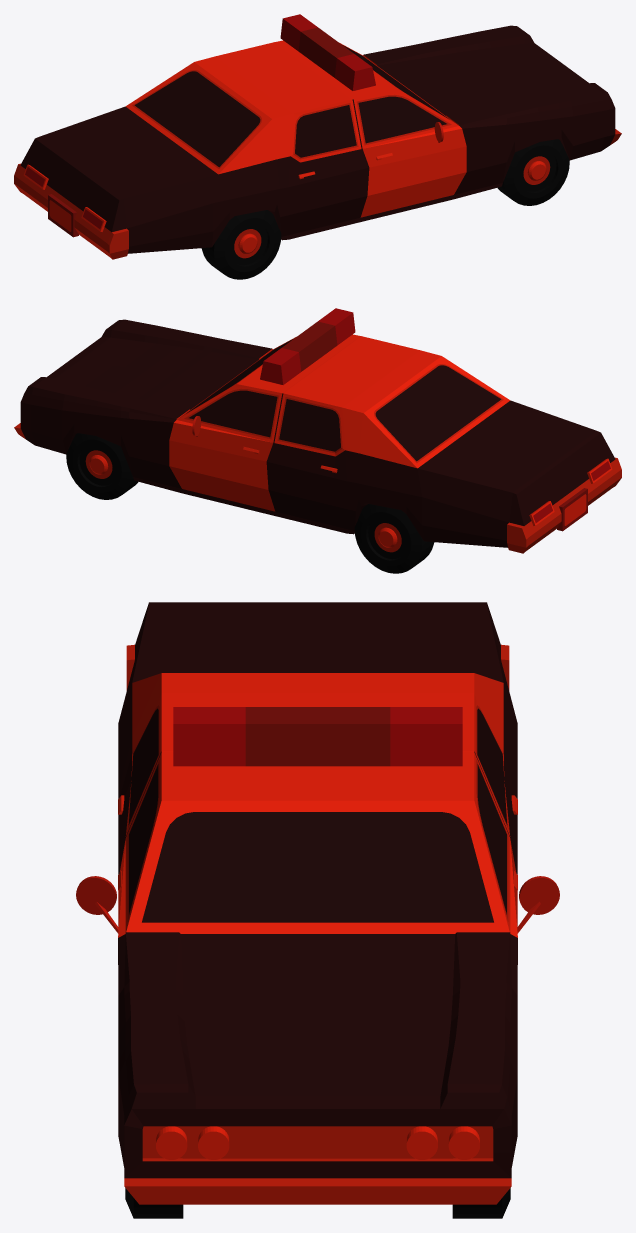
File: cop.fbx
3 renders of one model, top to bottom at view 1: azimuth 30°, elevation 25°; view 2: azimuth 150°, elevation 25°; view 3: azimuth 270°, elevation 25°, orthographic. The views are drawn at different scales.
Parts seen in each view (by area): view 1: Cube; view 2: Cube; view 3: Cube.
Boxes of the visible parts, box(x1,y1,x2,y2) form: Cube: box(14, 14, 621, 279); Cube: box(14, 308, 621, 573); Cube: box(76, 602, 559, 1218).
Size of the model in its own units: 708 by 225 by 289.
